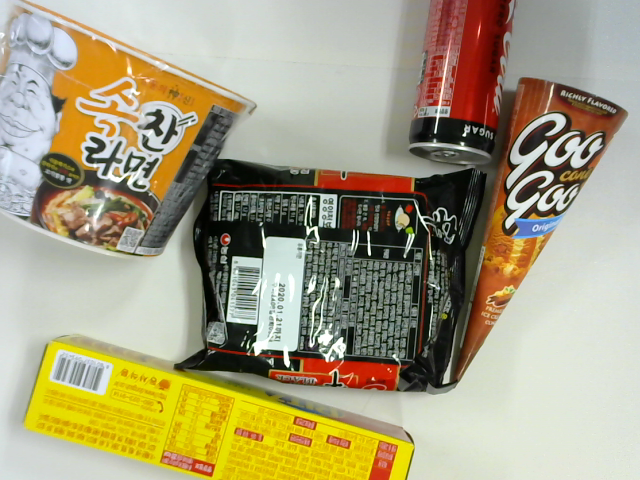Coca_Cola_Zero_Can_250ml: (411, 1, 522, 166)
GooGoo_Cone_CVS: (451, 76, 630, 384)
Hejangchan: (1, 1, 255, 259)
Ritz_Remon_96g: (23, 334, 414, 480)
Sinramen_Black: (194, 159, 475, 393)
